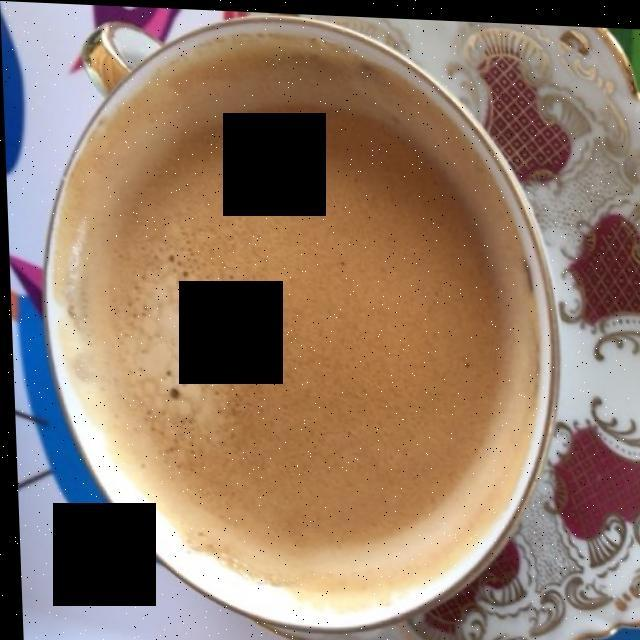espresso: (64, 61, 520, 586)
